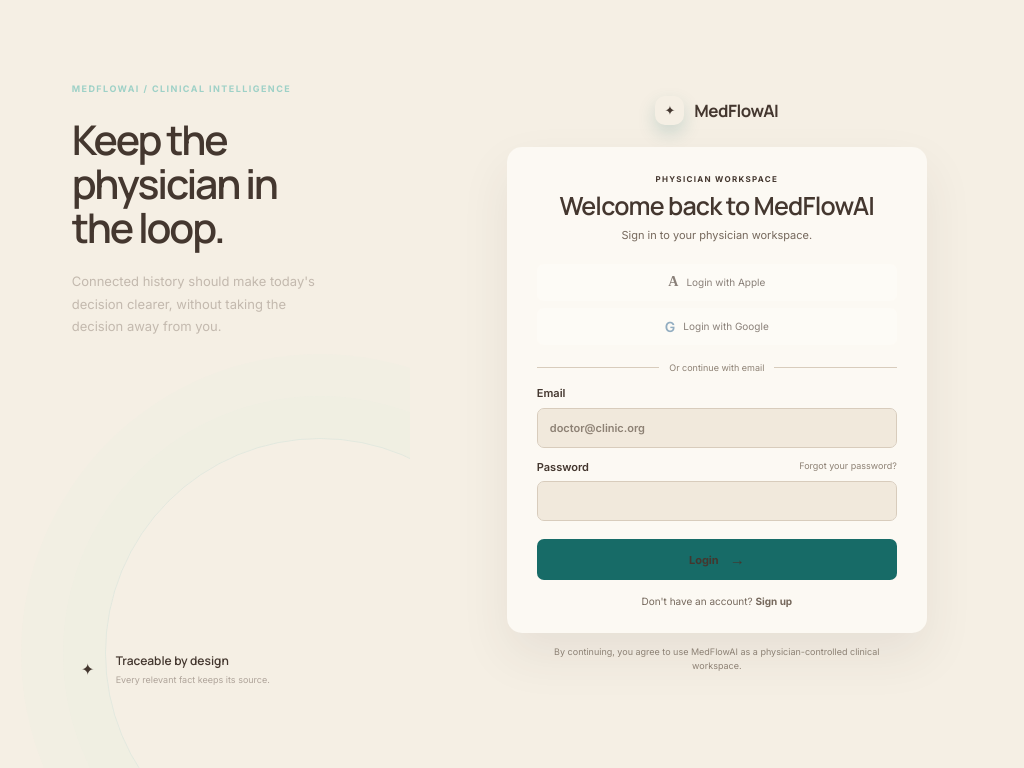
Test case: authentication pages › navigates a valid login to the protected dashboard in test runtime
Type "doctor@example.com" into the field labelled "Email".
click(717, 428); type("doctor@example.com")  # box x1=537 y1=408 x2=897 y2=448
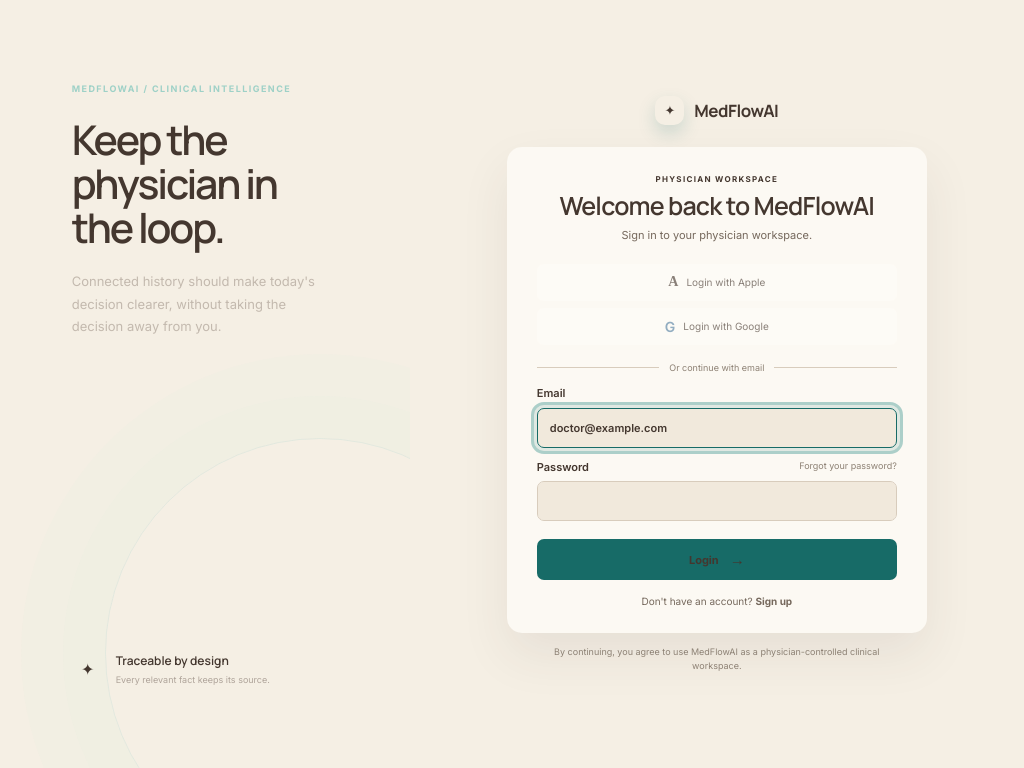
Type "password123" into the password field labelled "Password Forgot your password?".
click(717, 501); type("password123")  # box x1=537 y1=481 x2=897 y2=521
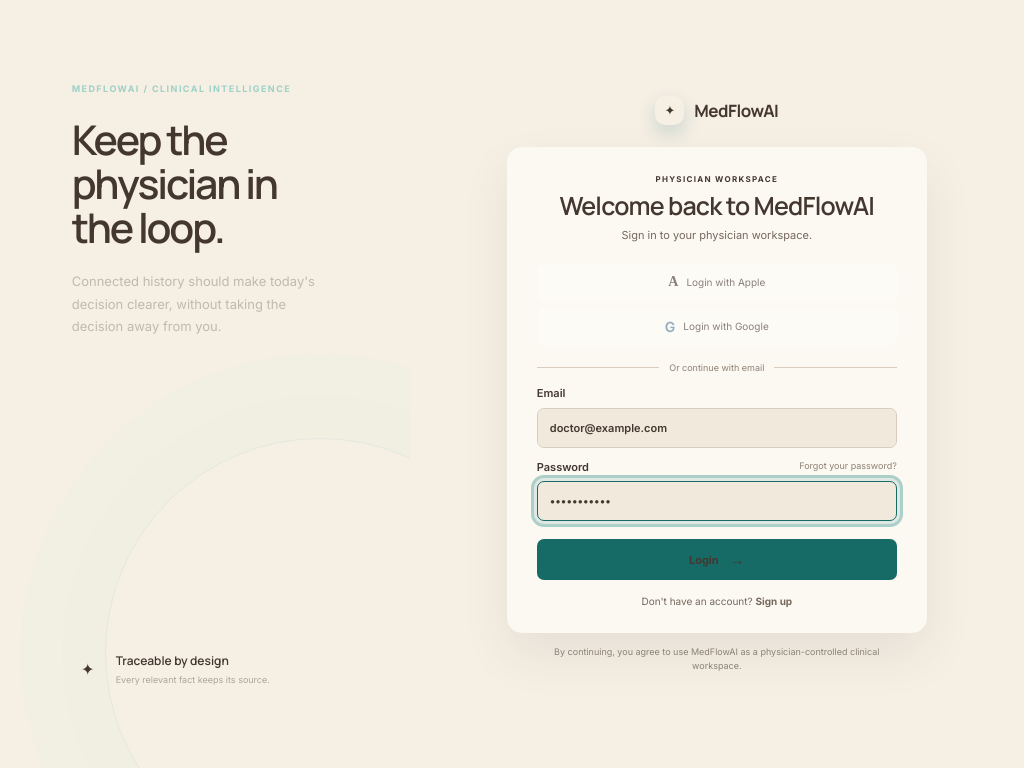
Click the button "Login →".
click(717, 560)  # box x1=537 y1=539 x2=897 y2=580
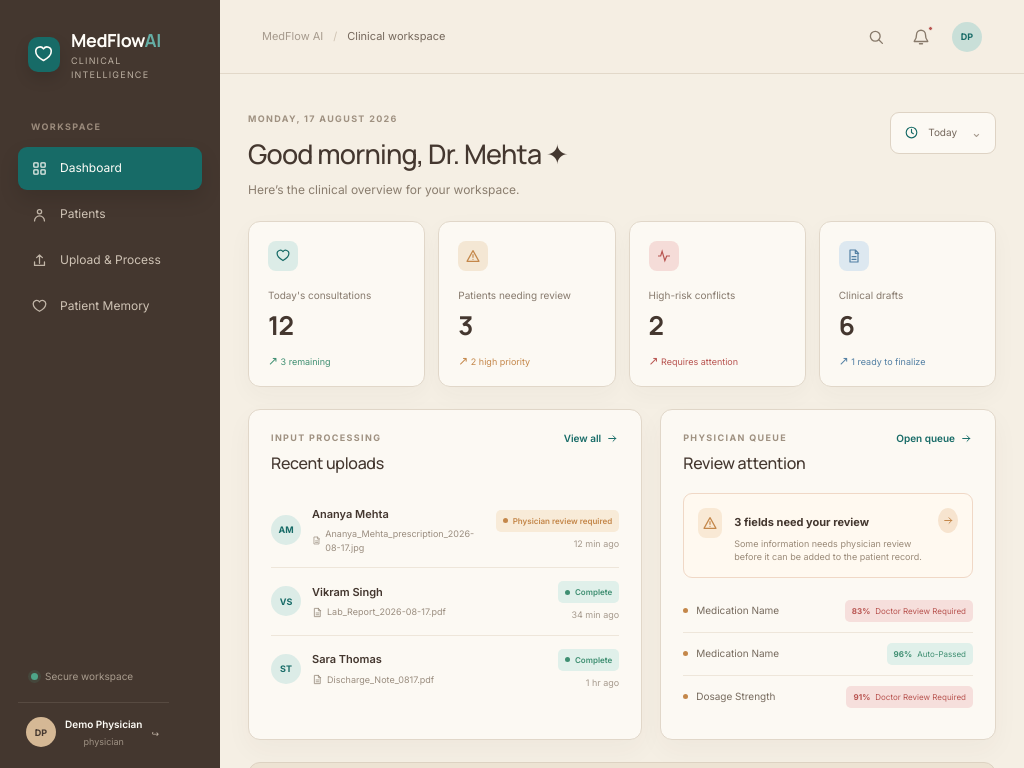
Expected: the heading "Recent uploads" is shown, x1=271 y1=450 x2=384 y2=474
